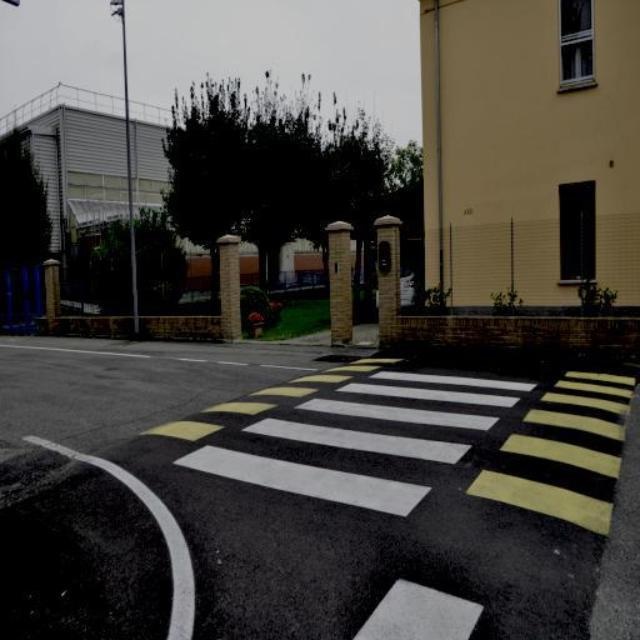sidewalk: (118, 358, 516, 640)
